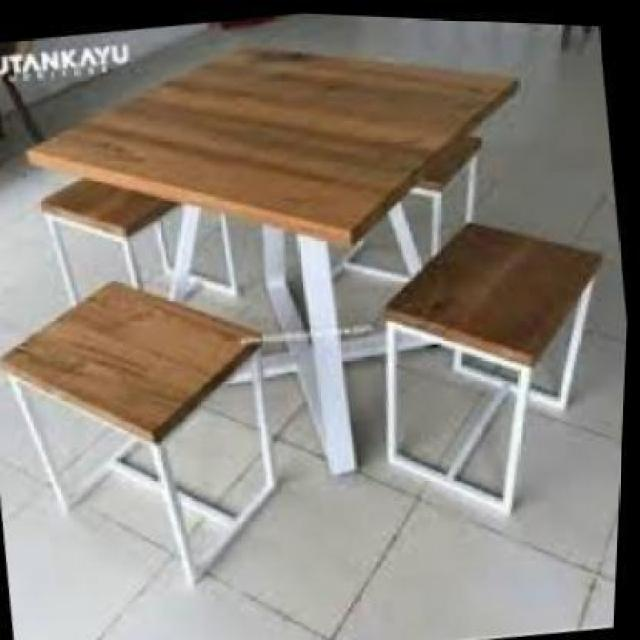tables: (23, 41, 520, 477)
